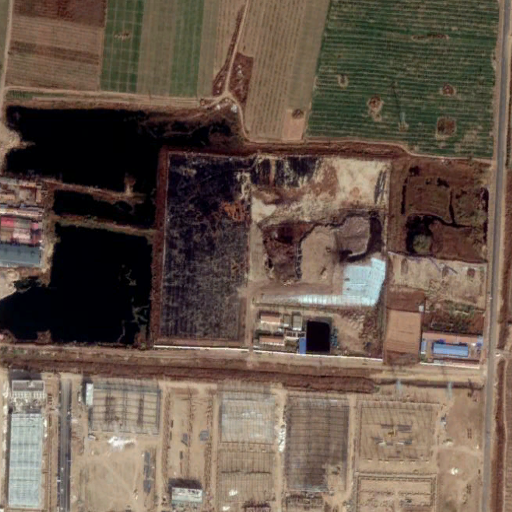lf: (158, 154, 386, 344)
